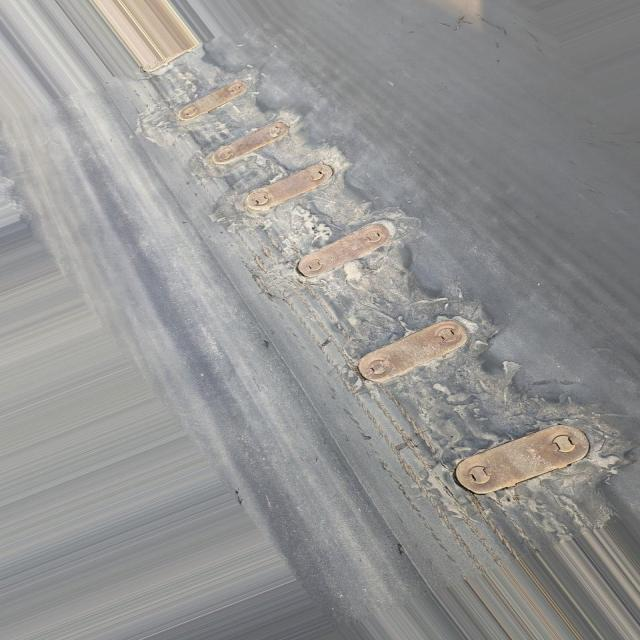patch work: (146, 67, 640, 565)
